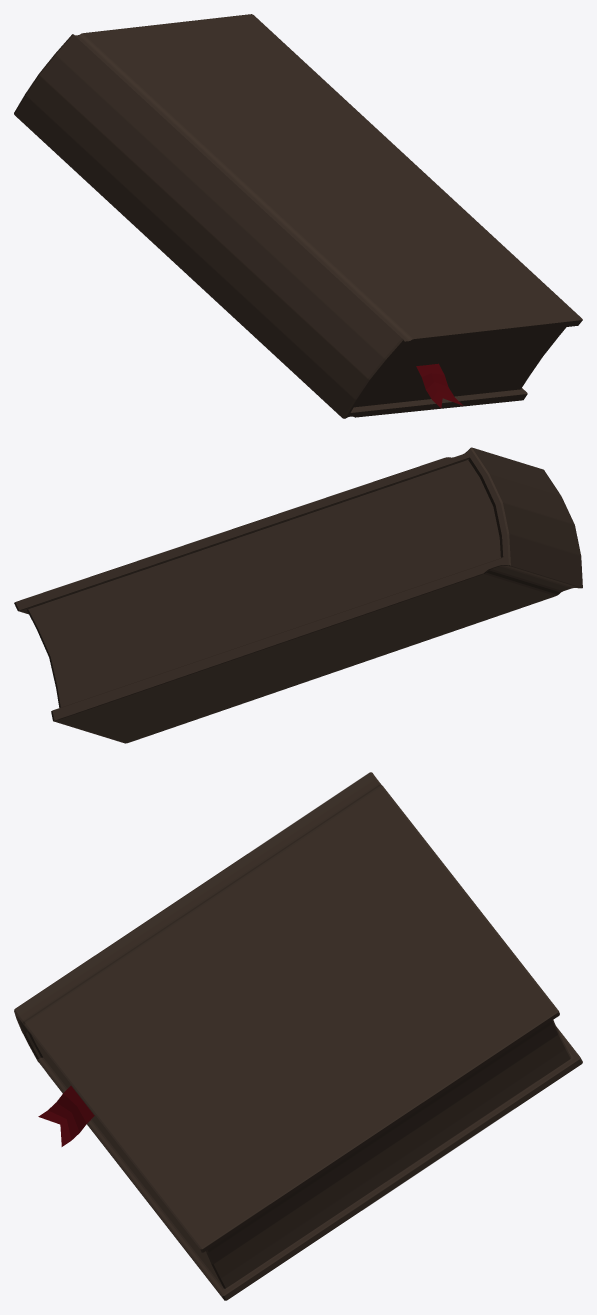
The model's file is SimpleBook1.fbx.
3 views of the same model, one above another, from view 1: azimuth 30°, elevation 25°; view 2: azimuth 150°, elevation 25°; view 3: azimuth 270°, elevation 25° (orthographic). The views are drawn at different scales.
Parts seen in each view (by area): view 1: book, bookmark; view 2: book; view 3: book, bookmark.
Boxes of the visible parts, left/top/right/bottom form: book: left=14, top=14, right=582, bottom=418; bookmark: left=416, top=363, right=463, bottom=407; book: left=14, top=447, right=582, bottom=743; book: left=14, top=772, right=582, bottom=1300; bookmark: left=38, top=1086, right=94, bottom=1146.
Bounding box in the file's own units: 2.33 × 1.91 × 2.71.
